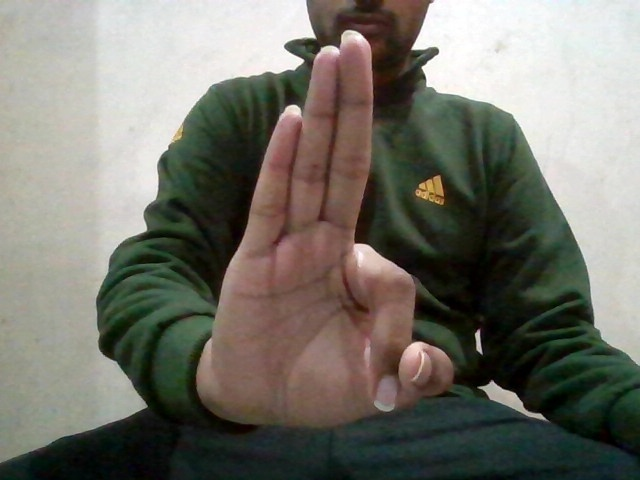F: (196, 33, 454, 436)
